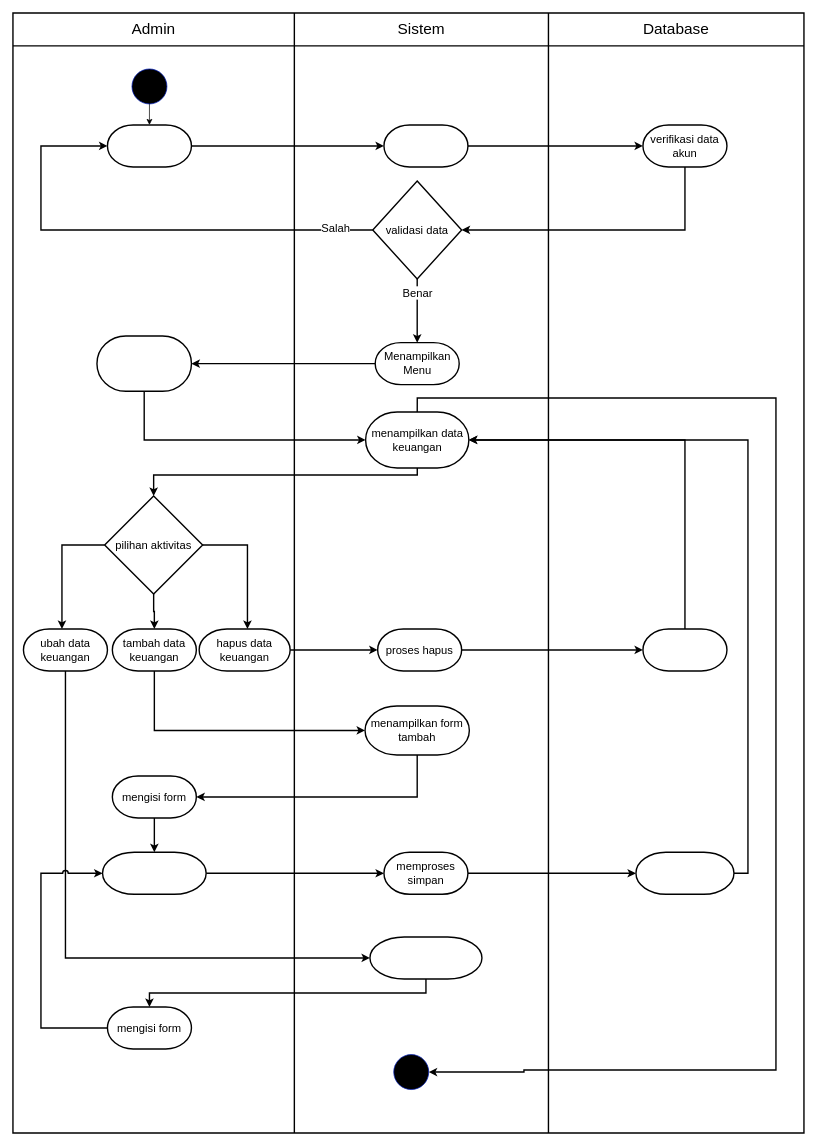
This 816x1145 diagram has some shape labels left out. The centre of each missing label's shape, as x and y in pixels:
"data terhapus" goes at (684,649).
"data tersimpan" goes at (684,873).
"login" goes at (149,145).
"menampilkan form ubah data" goes at (425,957).
"menekan menu data keuangan" goes at (144,363).
"menekan tombol simpan" goes at (154,873).
"Mengirim data" goes at (425,145).
